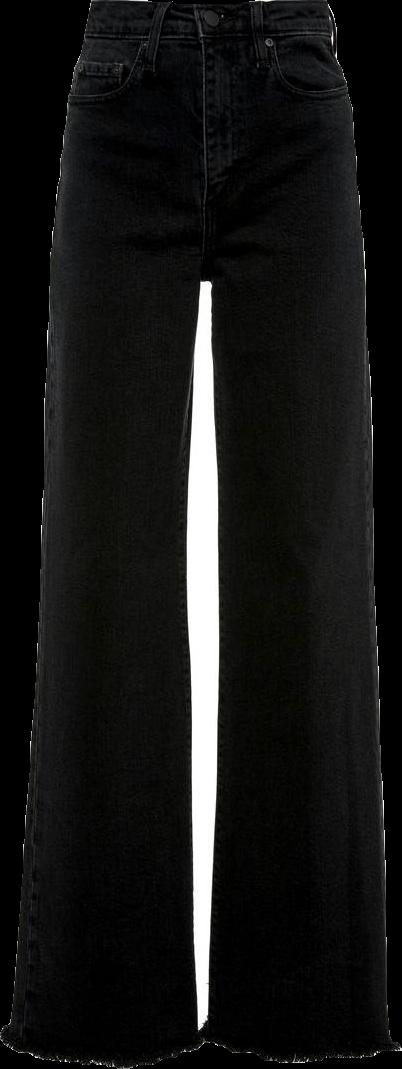Hemline: (0, 1031, 199, 1067), (203, 1029, 393, 1064)
Pantleg: (0, 0, 210, 1068), (197, 0, 391, 1068)
Waistline: (82, 27, 338, 46), (88, 0, 329, 12)
